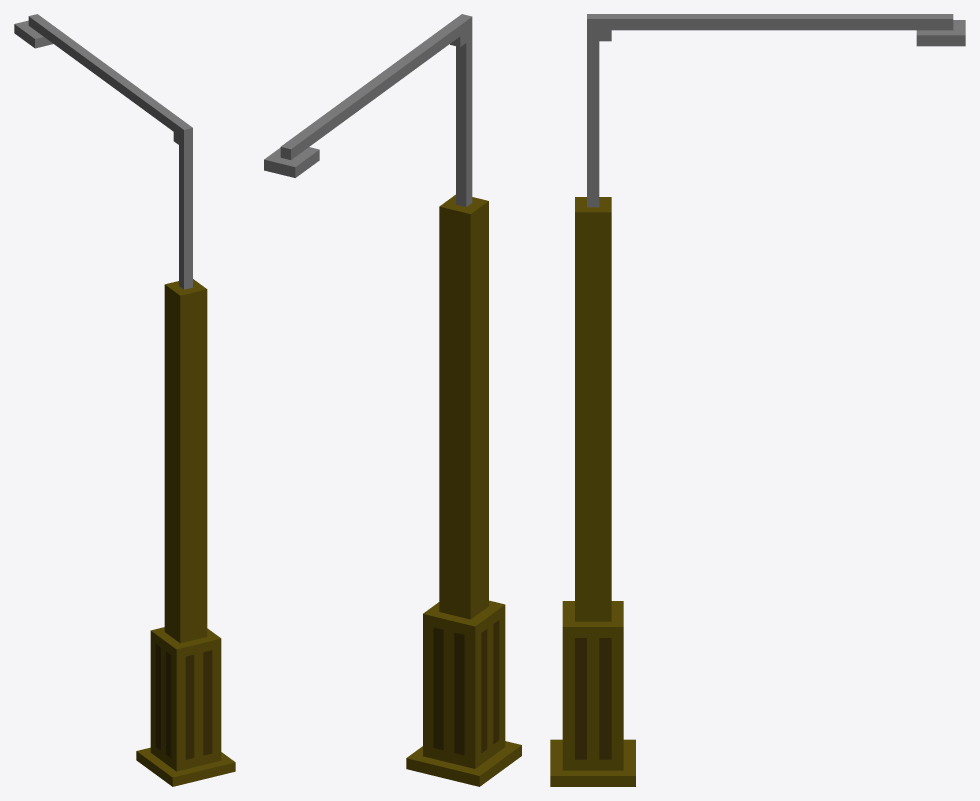
Rendered from StreetLight01.gltf.
3 renders of one model, left to right at view 1: azimuth 30°, elevation 25°; view 2: azimuth 150°, elevation 25°; view 3: azimuth 270°, elevation 25°, orthographic. The views are drawn at different scales.
Visible parts, largest first — view 1: Layer.4; view 2: Layer.4; view 3: Layer.4.
Boxes of the visible parts, x1,y1,x2,y2 form: Layer.4: [14, 14, 235, 786]; Layer.4: [264, 14, 521, 786]; Layer.4: [550, 14, 965, 786].
Bounding box in the file's own units: 7 × 68 × 34.
